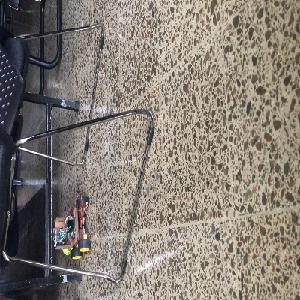Ball: (61, 248, 71, 255)
Robot: (54, 196, 88, 259)
